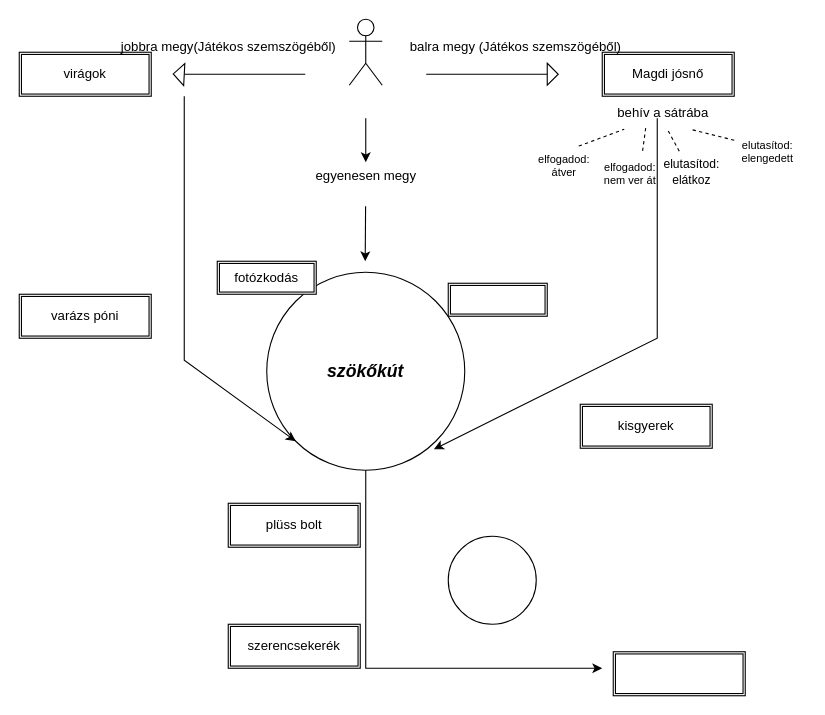
The diagram is 825 pixels wide and 715 high, and some of its shapes have lost their labels. The shapes that lost their labels are listed below. From the top down, each one's centre as x and y in pixels, then its label:
point 365,51: kezdőpont
point 497,299: bohóc
point 491,579: szobor
point 678,673: kastély
